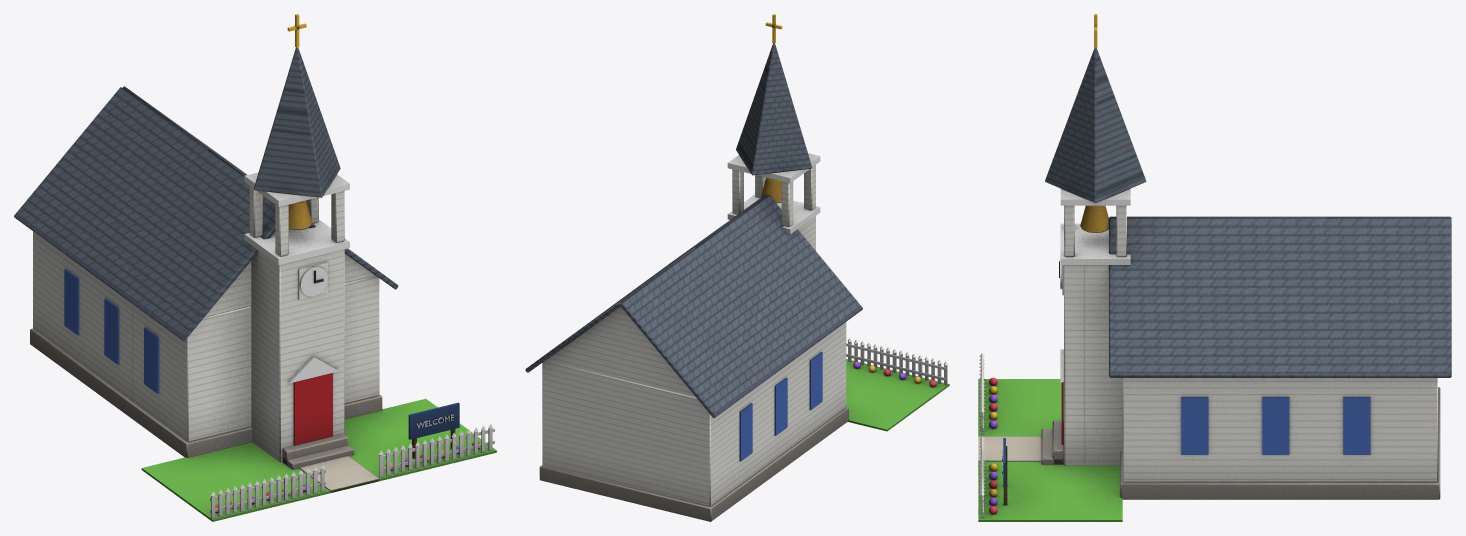
File: iglesia.glb
3 views of the same model, side by side, from view 1: azimuth 30°, elevation 25°; view 2: azimuth 150°, elevation 25°; view 3: azimuth 270°, elevation 25° (orthographic). The views are drawn at different scales.
Parts seen in each view (by area): view 1: iglesia; view 2: iglesia; view 3: iglesia.
Boxes of the visible parts, x1=… form: iglesia: x1=14, y1=14, x2=496, y2=521; iglesia: x1=525, y1=14, x2=949, y2=521; iglesia: x1=978, y1=14, x2=1451, y2=521.
Size of the model in its own units: 7.4 by 10.7 by 10.5.
Materials: 1 (1 with a texture image).
